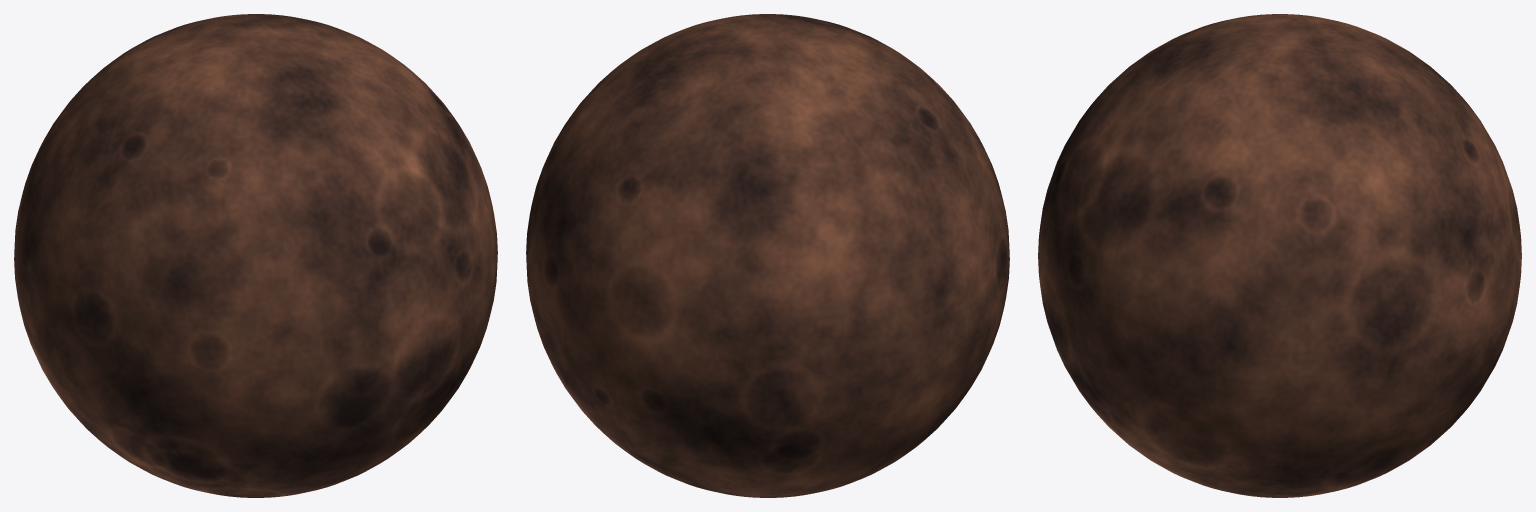
The model's file is planeta-rochoso.glb.
The picture shows the model from 3 angles, left to right: view 1: azimuth 30°, elevation 25°; view 2: azimuth 150°, elevation 25°; view 3: azimuth 270°, elevation 25°; orthographic projection.
Parts seen in each view (by area): view 1: Planeta · rochoso; view 2: Planeta · rochoso; view 3: Planeta · rochoso.
Boxes of the visible parts, left/top/right/bottom form: Planeta · rochoso: left=14, top=14, right=497, bottom=497; Planeta · rochoso: left=526, top=14, right=1009, bottom=497; Planeta · rochoso: left=1038, top=14, right=1521, bottom=497.
Size of the model in its own units: 2 by 2 by 2.
1 material, 1 textured.
